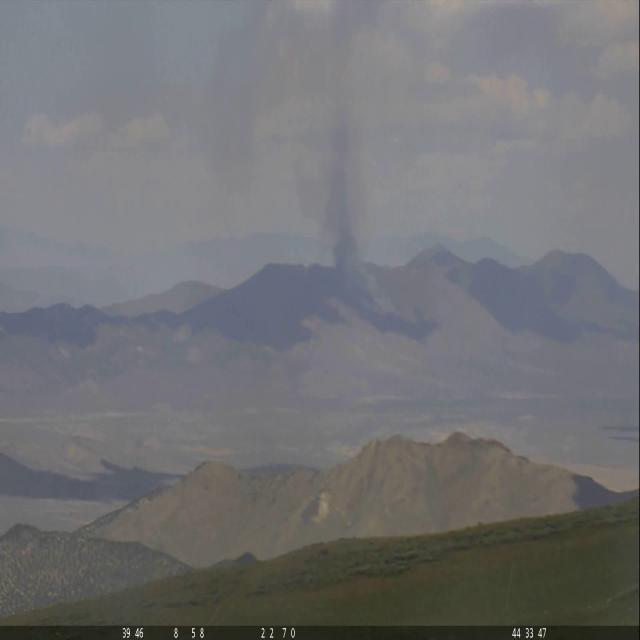smoke: (224, 5, 400, 314)
